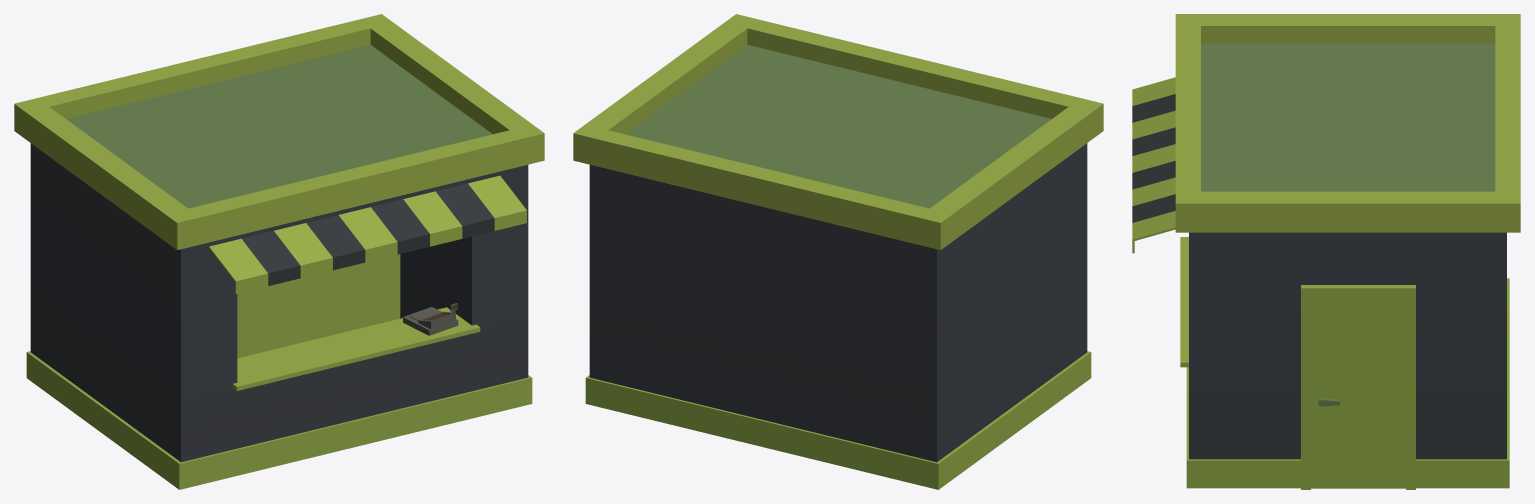
Rendered from SmallMarket_04.fbx.
The picture shows the model from 3 angles, left to right: view 1: azimuth 30°, elevation 25°; view 2: azimuth 150°, elevation 25°; view 3: azimuth 270°, elevation 25°; orthographic projection. The views are drawn at different scales.
Visible parts, largest first — view 1: SmallMarket_04; view 2: SmallMarket_04; view 3: SmallMarket_04.
Boxes of the visible parts, left/top/right/bottom form: SmallMarket_04: left=14, top=14, right=544, bottom=489; SmallMarket_04: left=573, top=14, right=1103, bottom=489; SmallMarket_04: left=1132, top=14, right=1520, bottom=489.
Size of the model in its own units: 4.24 by 3 by 3.66.
